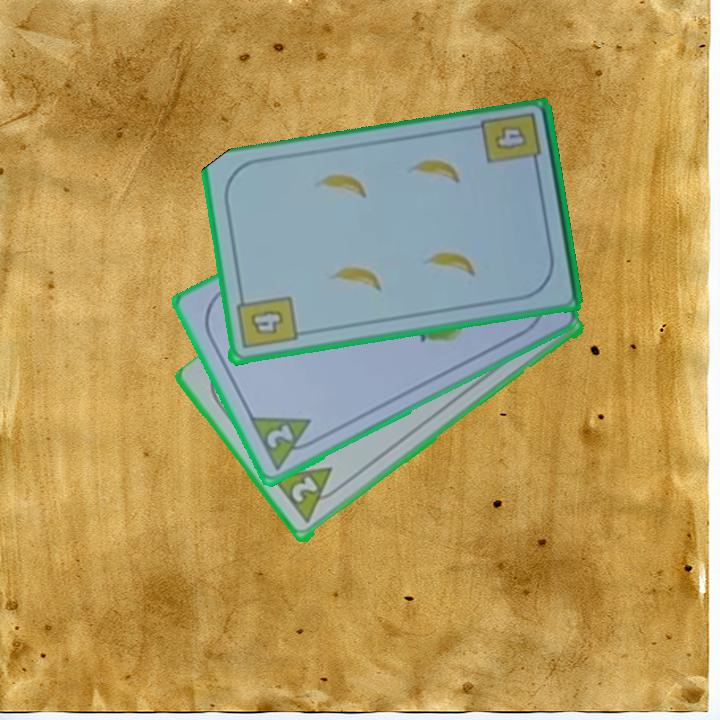2p: (287, 473, 321, 507), (262, 421, 297, 452)
4b: (478, 109, 545, 175), (232, 290, 299, 352)
